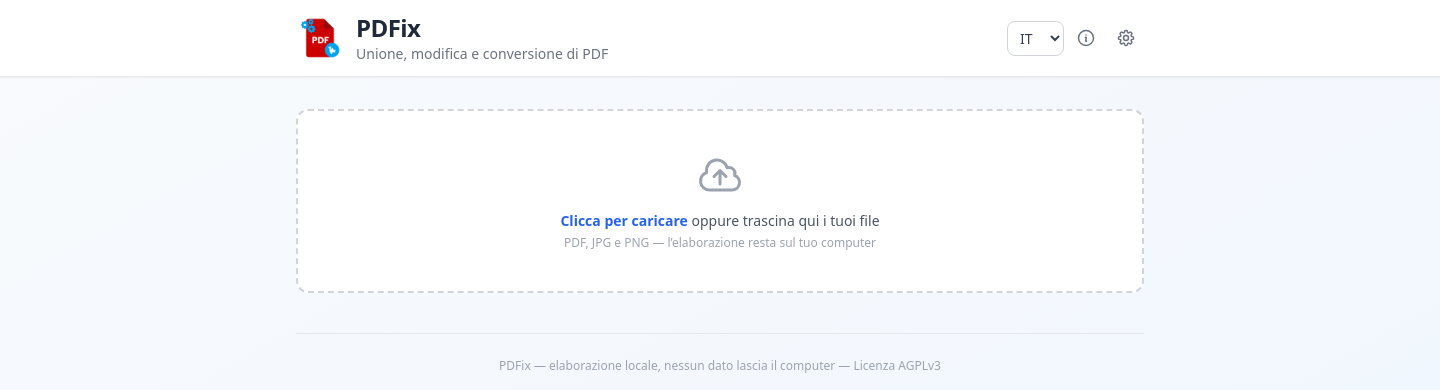
Scenario: App › cambia lingua dal selettore e lo salva nelle preferenze
The width and height of the screenshot is (1440, 390).
Select "EN" in the dropdown with test id "language-select" at (1036, 38), box [1007,20,1064,56]
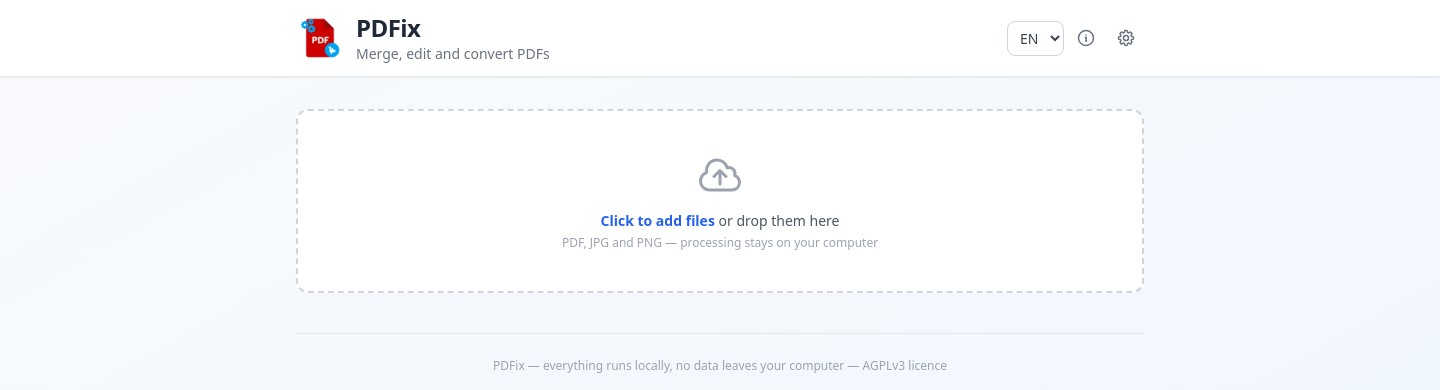
Expected: the text "Merge, edit and convert PDFs" is shown, [356,44,550,64]
Expected: the text "Click to add files" is shown, [600,211,715,230]
